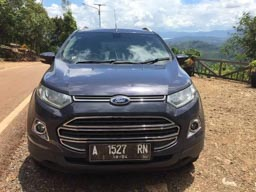plat: (87, 143, 150, 154)
